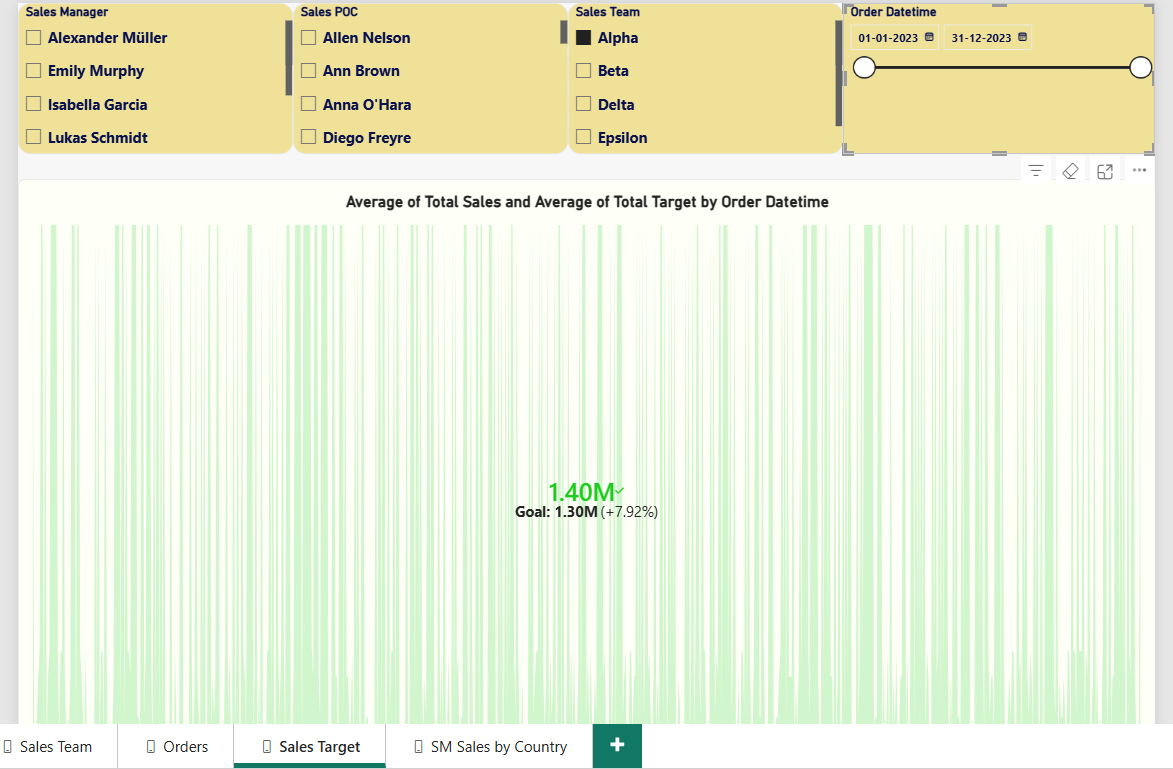

The page's visual inventory and layout, read from the dashboard file:
{"tool":"powerbi","page":{"name":"Sales Target","canvas":[1300,900],"ordinal":2},"visuals":[{"type":"slicer","fields":{"Values":["Orders.Order Datetime"]},"box":[942.9,0,357.1,172.9],"z":0},{"type":"slicer","fields":{"Values":["Sales Targets.Sales Team"]},"box":[628.6,0,314.3,172.9],"z":1000},{"type":"kpi","fields":{"Goal":["Avg(Sales Manager Target Completion.Total Target)"],"Indicator":["Avg(Sales Manager Target Completion.Total Sales)"],"TrendLine":["Orders.Order Datetime"]},"box":[0,201.4,1300,698.6],"z":2000},{"type":"slicer","fields":{"Values":["Sales Targets.Sales POC"]},"box":[314.3,0,314.3,172.9],"z":3000},{"type":"slicer","fields":{"Values":["Sales Targets.Sales Manager"]},"box":[0,0,314.3,172.9],"z":4000}]}

Visuals, with their boxes on the page's 1300x900 design canvas (x1, y1, x2, y2). These are canvas units, not pixel positions in the 1173x769 screenshot, which may show the page scaled, cropped or inside an application window:
slicer - Orders.Order Datetime: (x1=943, y1=0, x2=1300, y2=173)
slicer - Sales Targets.Sales Team: (x1=629, y1=0, x2=943, y2=173)
kpi - Avg(Sales Manager Target Completion.Total Target) x Avg(Sales Manager Target Completion.Total Sales): (x1=0, y1=201, x2=1300, y2=900)
slicer - Sales Targets.Sales POC: (x1=314, y1=0, x2=629, y2=173)
slicer - Sales Targets.Sales Manager: (x1=0, y1=0, x2=314, y2=173)
